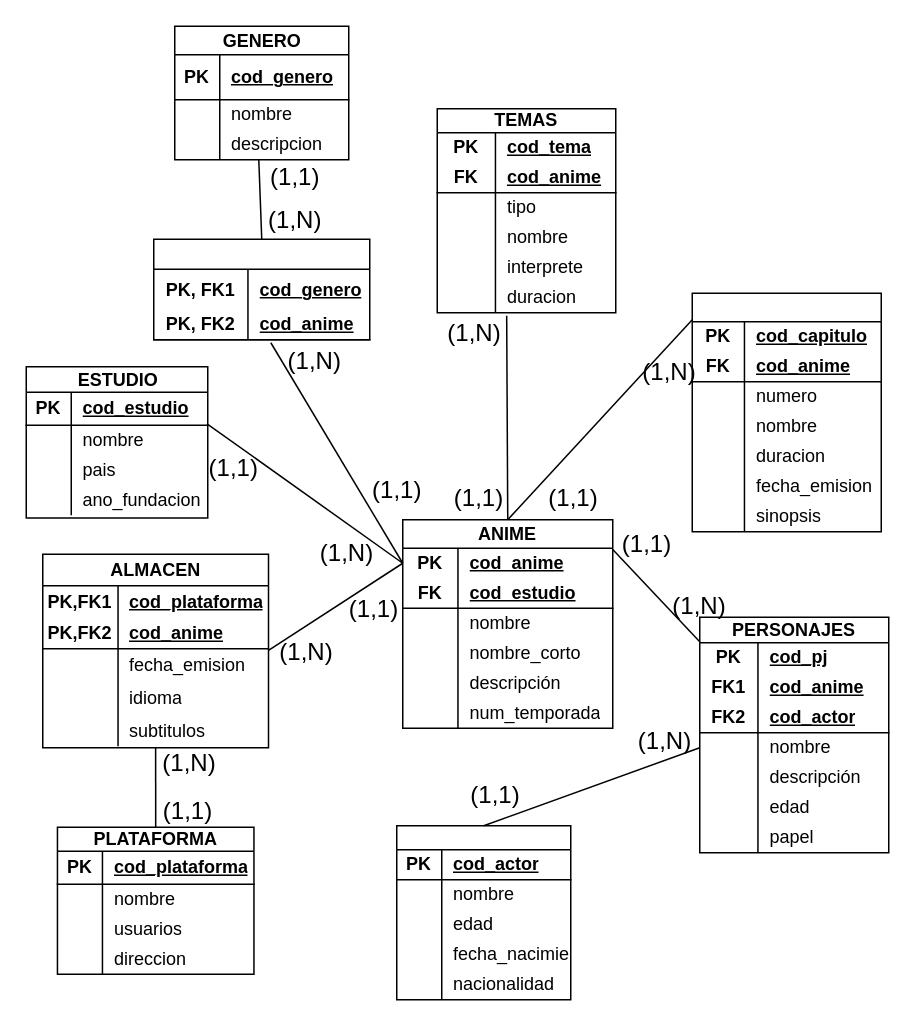
Some shapes in this 915 by 1026 pixel diagram are drawn without their labels. Each missing label, with the box of its shape:
ACTORES: (395, 824, 571, 1000)
CAPITULOS: (691, 292, 881, 532)
CLASIFICACION: (152, 238, 370, 340)
